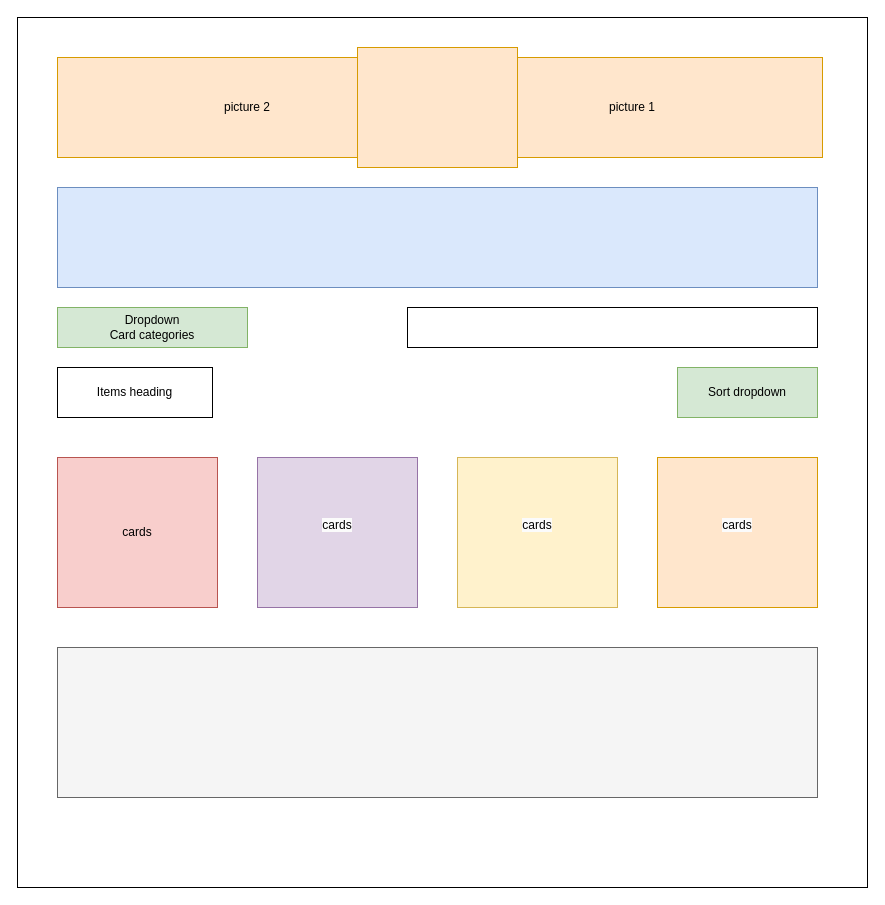
Some shapes in this 885 by 905 pixel diagram are drawn without their labels. The centre of each missing label's shape, as x and y in pixels:
Description / BIO: (437,237)
Footer links email: (437,722)
logo: (437,107)
Search: (612,327)
